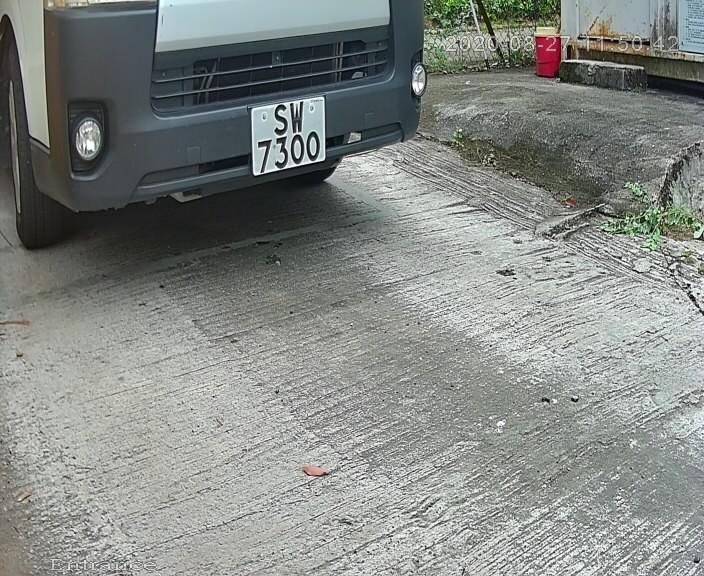License Plate: (242, 88, 337, 188)
